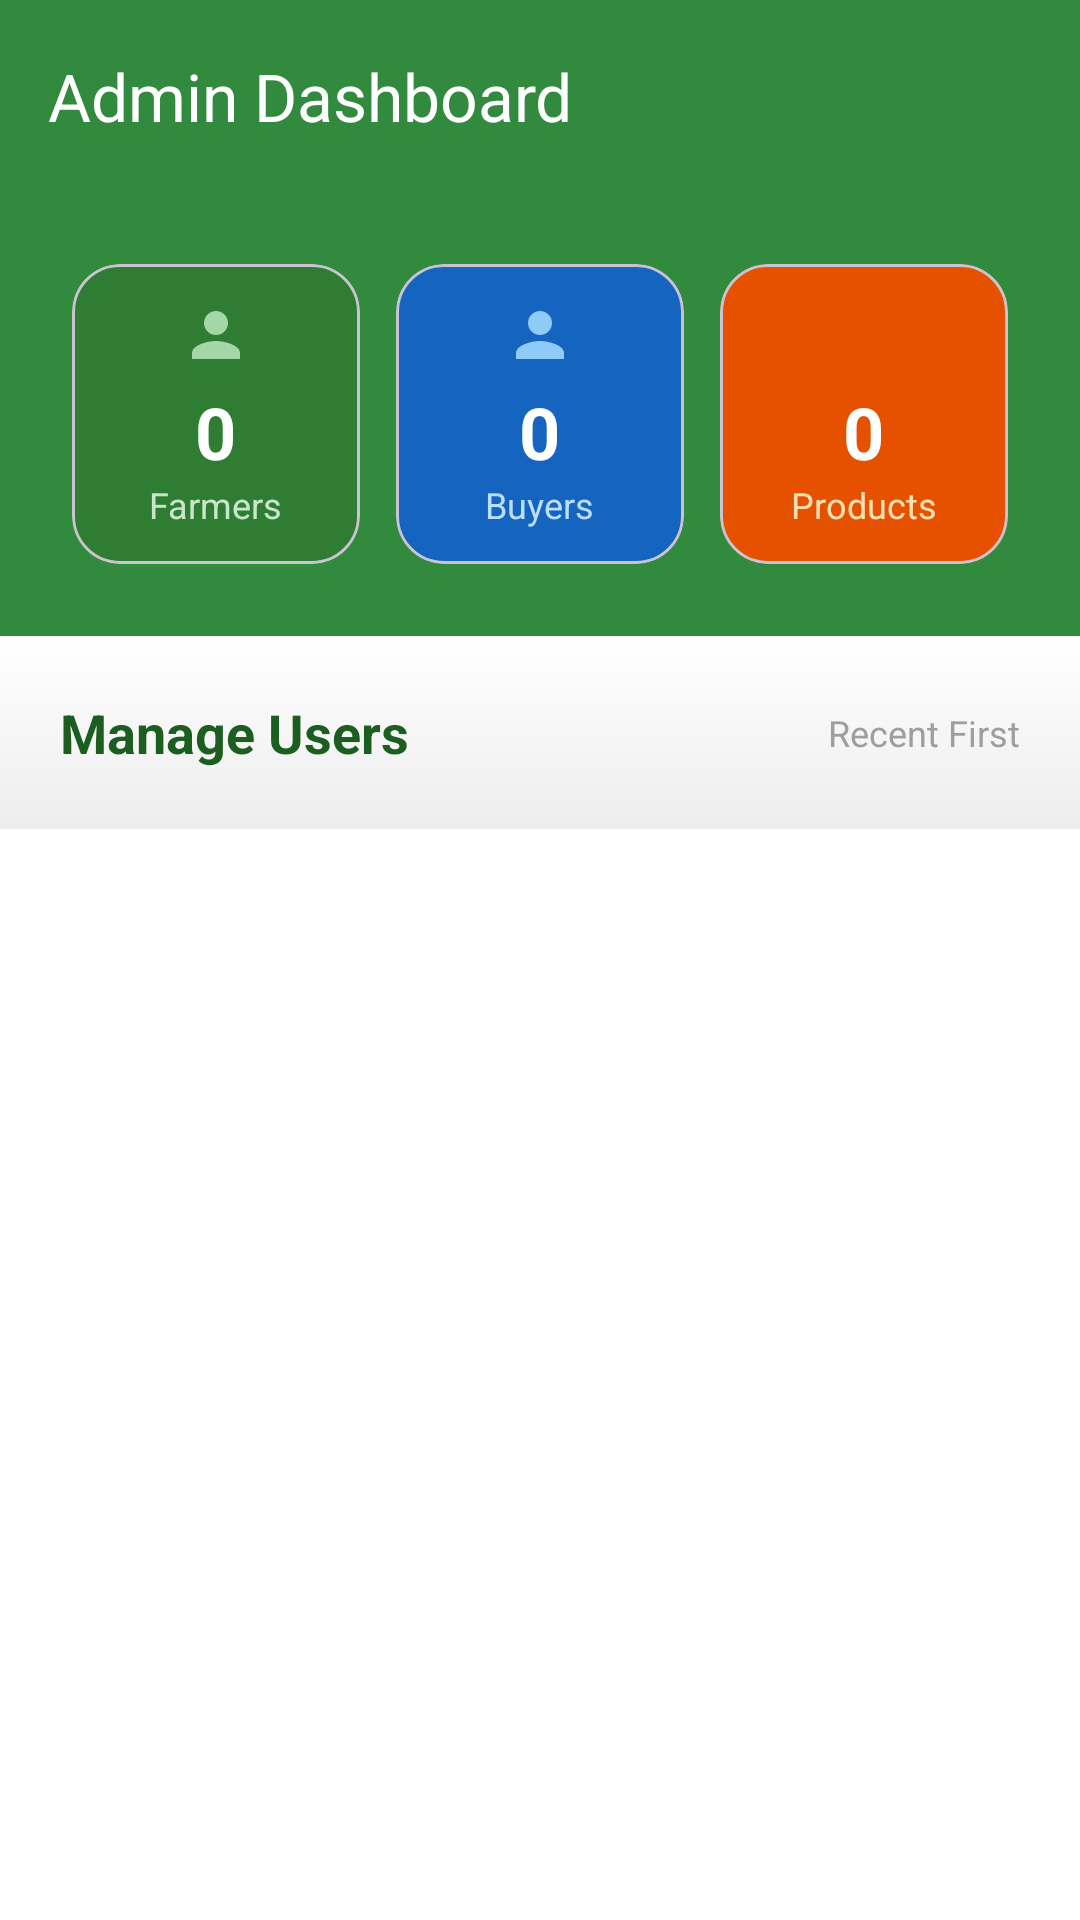

Named icons in this screenshot (1080×1920) and their centers, (x,y):
person: (216,335), (540,335)
